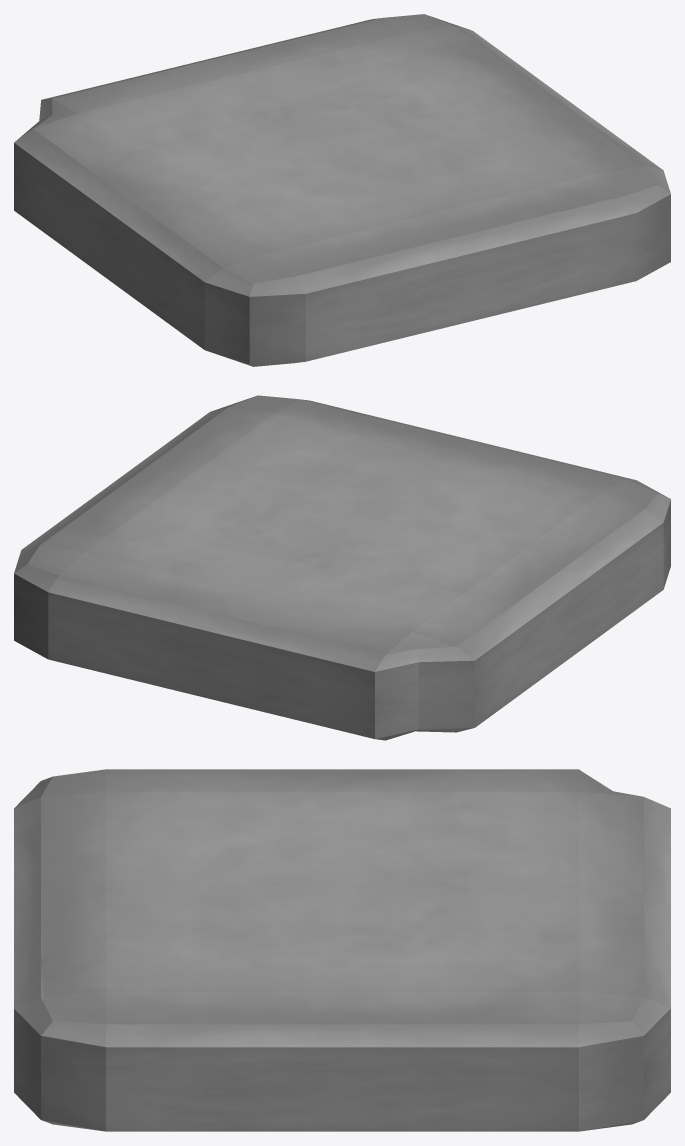
The model's file is SteppingStone-3.glb.
3 renders of one model, top to bottom at view 1: azimuth 30°, elevation 25°; view 2: azimuth 150°, elevation 25°; view 3: azimuth 270°, elevation 25°, orthographic. The views are drawn at different scales.
Visible parts, largest first — view 1: SteppingStone-3-col; view 2: SteppingStone-3-col; view 3: SteppingStone-3-col.
Part boxes in pixels (x1,y1,x2,y2): SteppingStone-3-col: (14, 14, 670, 366); SteppingStone-3-col: (14, 395, 670, 740); SteppingStone-3-col: (14, 769, 670, 1131).
Bounding box in the file's own units: 0.3357 × 0.066 × 0.3357.
Materials: 1 (1 with a texture image).
